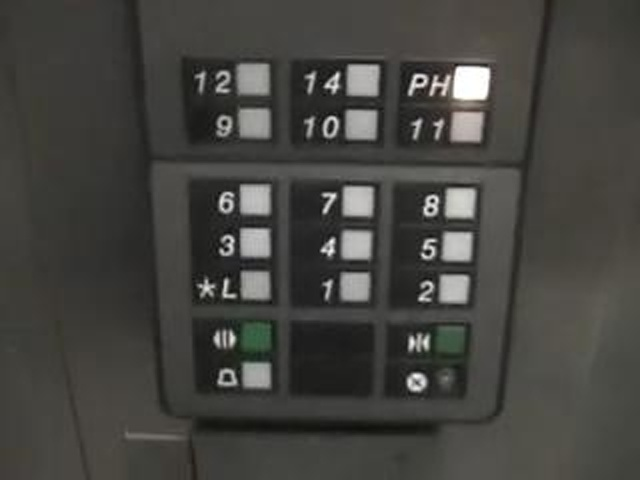1: (284, 266, 379, 310)
10: (285, 101, 385, 148)
11: (391, 104, 494, 150)
12: (177, 54, 276, 102)
14: (287, 54, 387, 102)
2: (386, 268, 480, 308)
3: (185, 221, 278, 266)
4: (285, 224, 381, 268)
5: (387, 224, 482, 267)
6: (185, 174, 277, 223)
7: (286, 178, 381, 224)
8: (387, 177, 484, 225)
9: (180, 100, 278, 149)
PH: (394, 57, 496, 103)
alarm: (187, 357, 279, 397)
close: (381, 318, 472, 360)
open: (188, 315, 280, 359)
sL: (187, 265, 278, 308)
stop: (382, 358, 471, 404)
